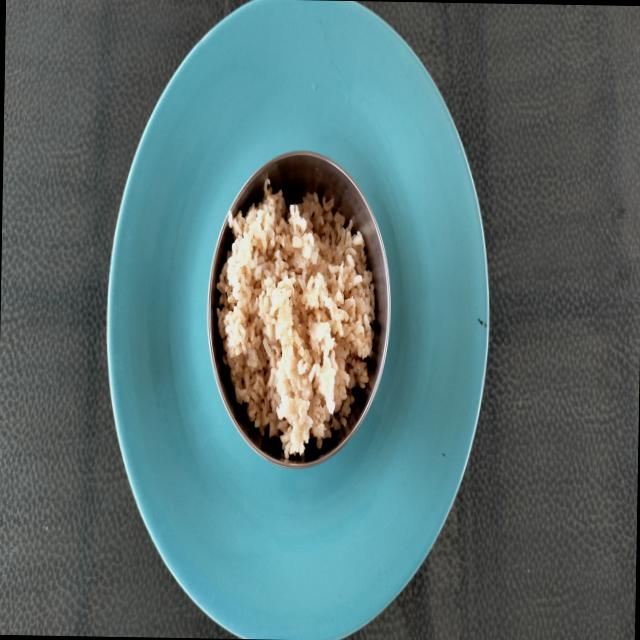brown-rice: (216, 181, 374, 458)
